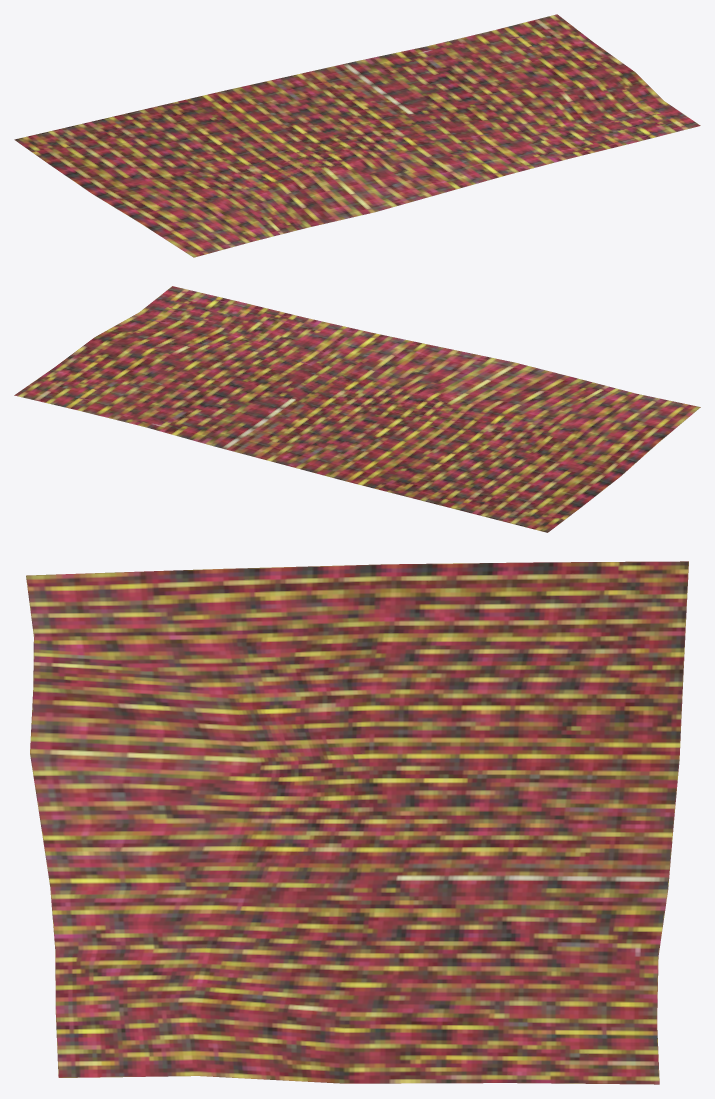
Rendered from rug.glb.
3 renders of one model, top to bottom at view 1: azimuth 30°, elevation 25°; view 2: azimuth 150°, elevation 25°; view 3: azimuth 270°, elevation 25°, orthographic. The views are drawn at different scales.
Parts seen in each view (by area): view 1: mat.001; view 2: mat.001; view 3: mat.001.
Part boxes in pixels (box(x1,y1,x2,y2)): mat.001: box(14, 14, 700, 257); mat.001: box(14, 286, 700, 532); mat.001: box(26, 561, 688, 1084).
Bounding box in the file's own units: 4.06 × 0.00688 × 2.17.
1 material, 1 textured.
